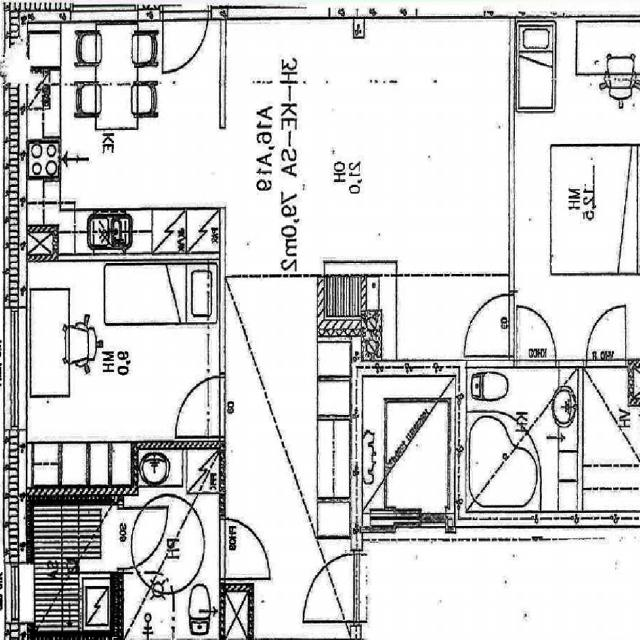door: (350, 555, 411, 621), (302, 555, 362, 621), (162, 0, 208, 85), (464, 294, 515, 355), (118, 507, 168, 568), (219, 518, 269, 578), (176, 376, 226, 436), (587, 304, 626, 366), (518, 306, 556, 367)
